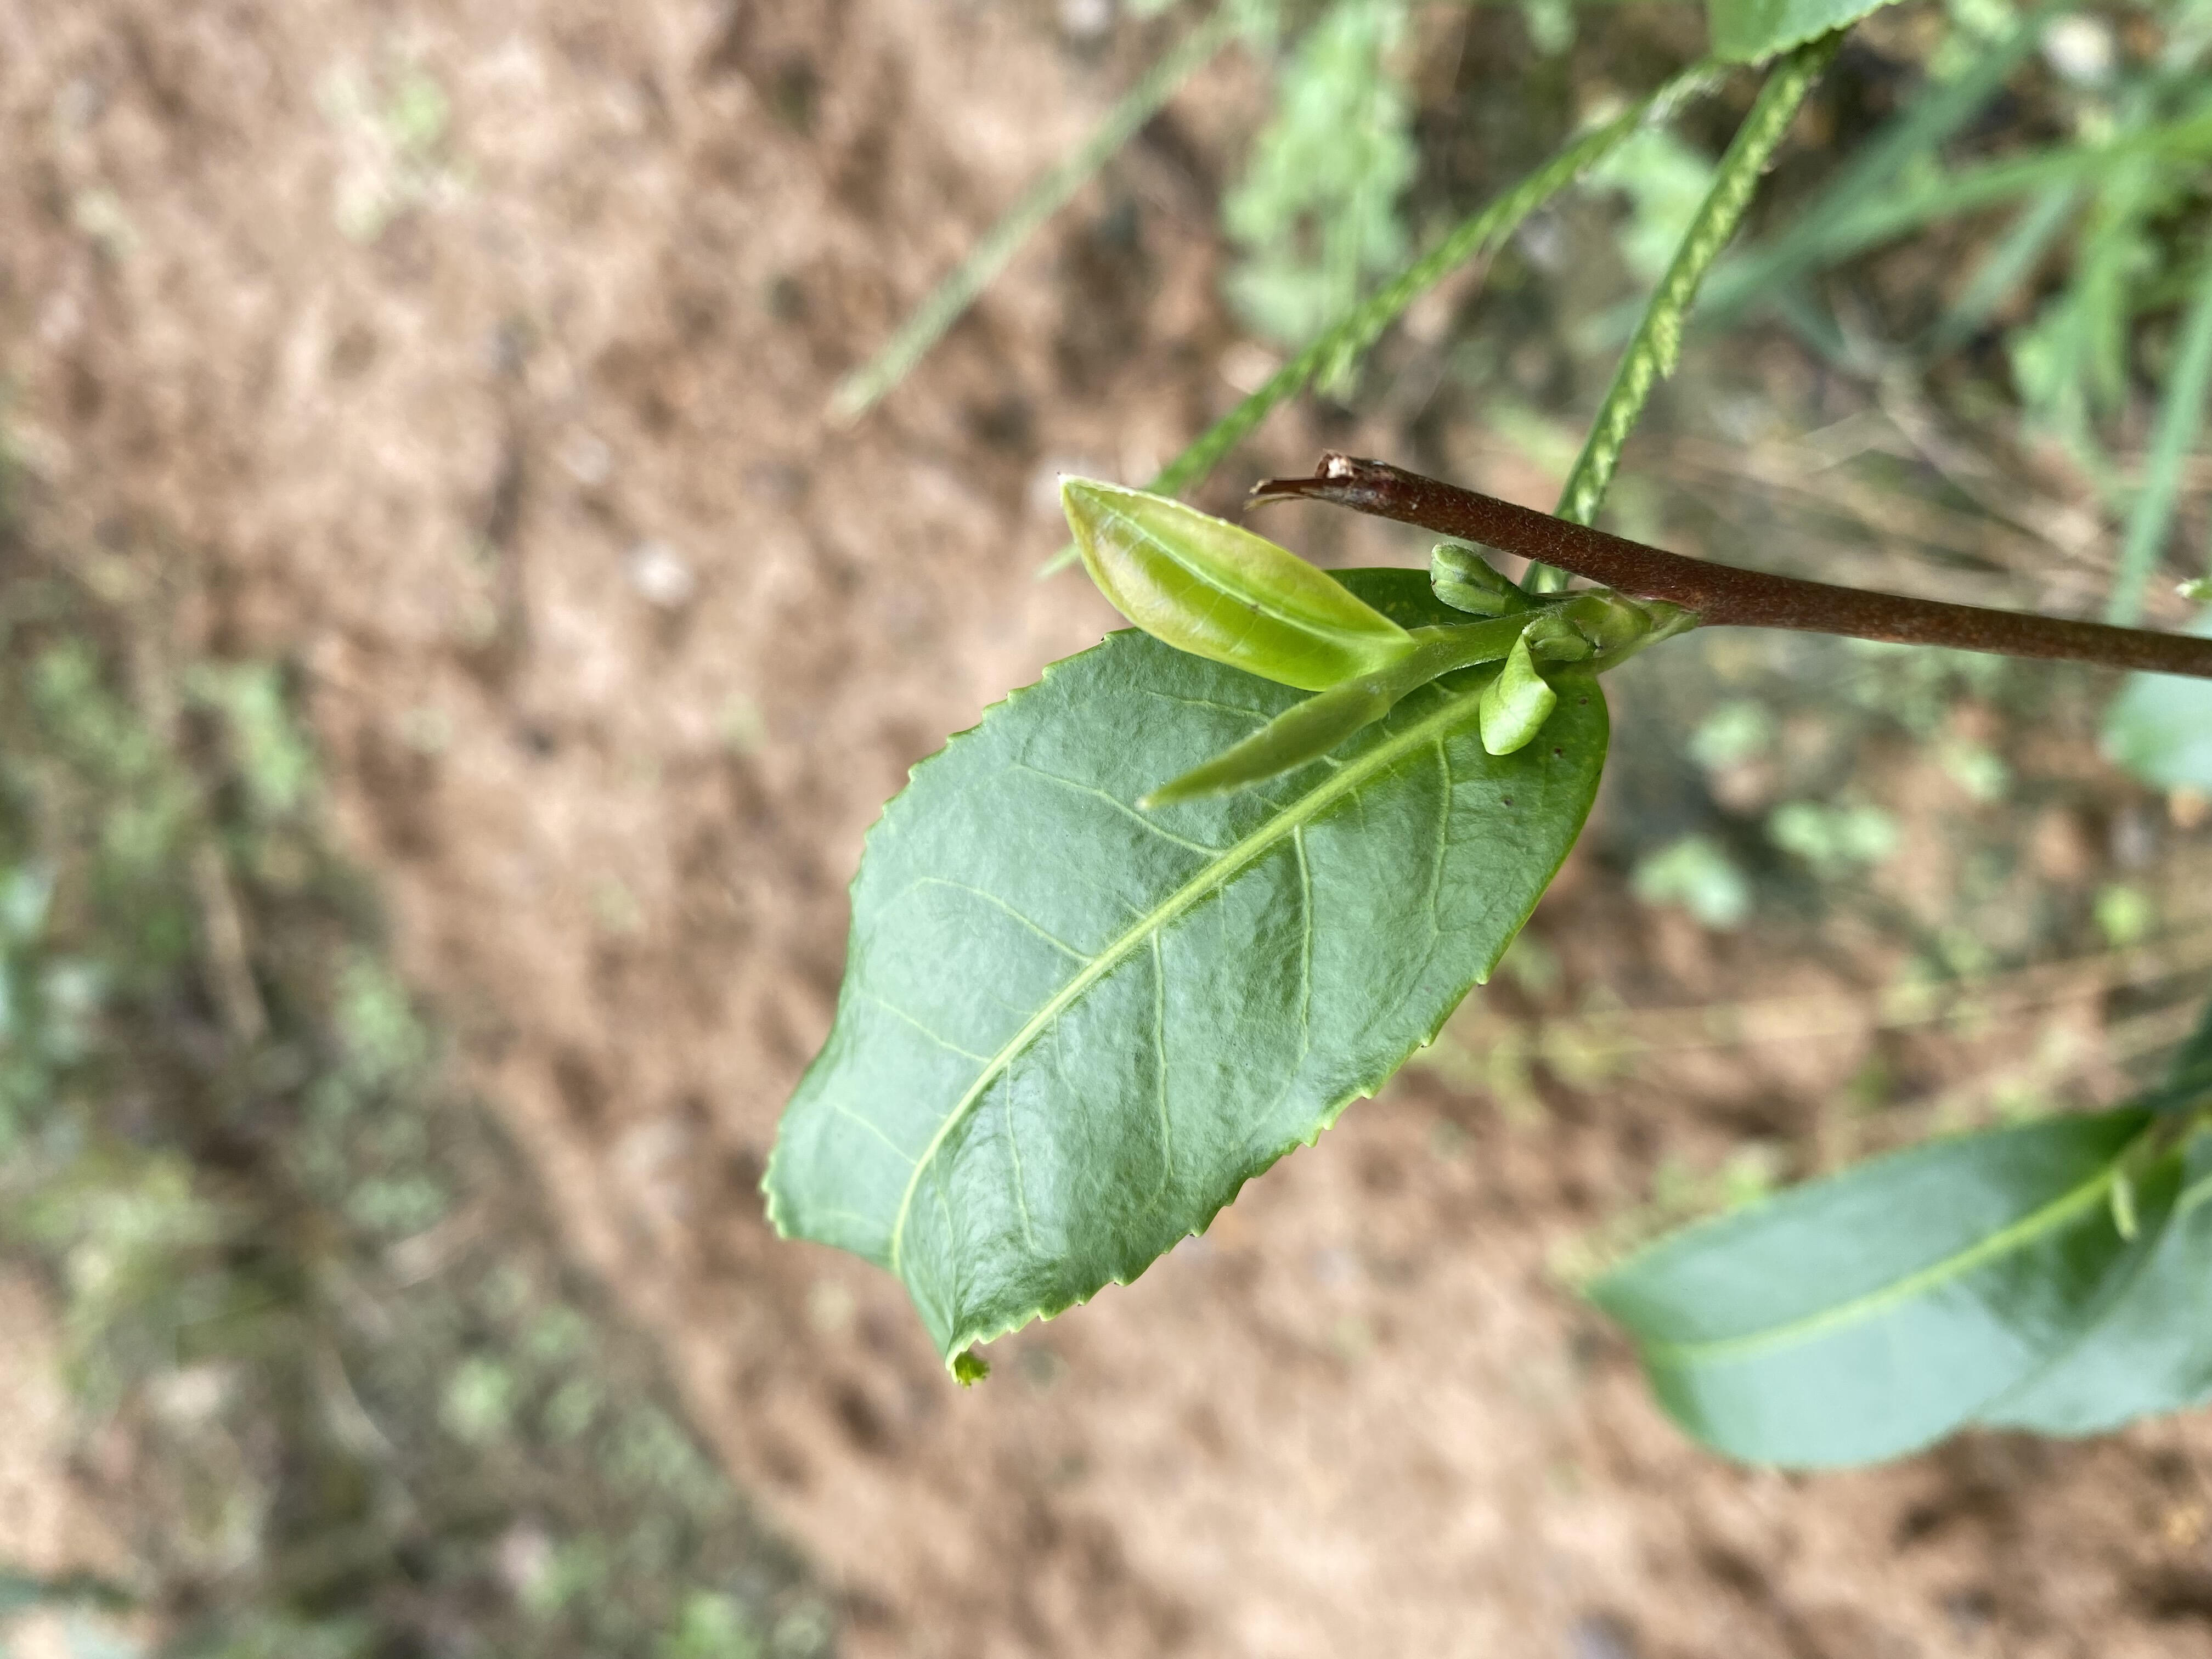healthy: (756, 568, 1613, 1392), (1052, 471, 1409, 690)
